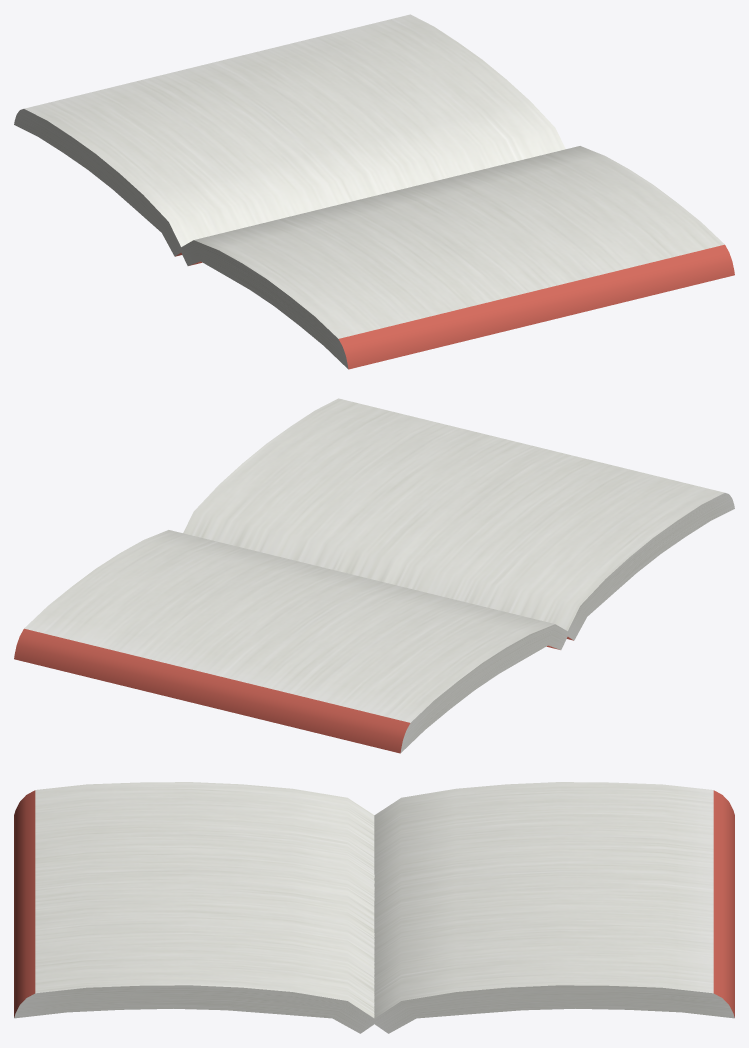
The model's file is Asset_10_SchoolBook.fbx.
3 renders of one model, top to bottom at view 1: azimuth 30°, elevation 25°; view 2: azimuth 150°, elevation 25°; view 3: azimuth 270°, elevation 25°, orthographic. The views are drawn at different scales.
Visible parts, largest first — view 1: polySurface15; view 2: polySurface15; view 3: polySurface15.
Part boxes in pixels (bbox=[...]): polySurface15: bbox=[14, 14, 734, 369]; polySurface15: bbox=[14, 398, 734, 753]; polySurface15: bbox=[14, 782, 734, 1033].
Bounding box in the file's own units: 12.02 × 1.34 × 18.01.
